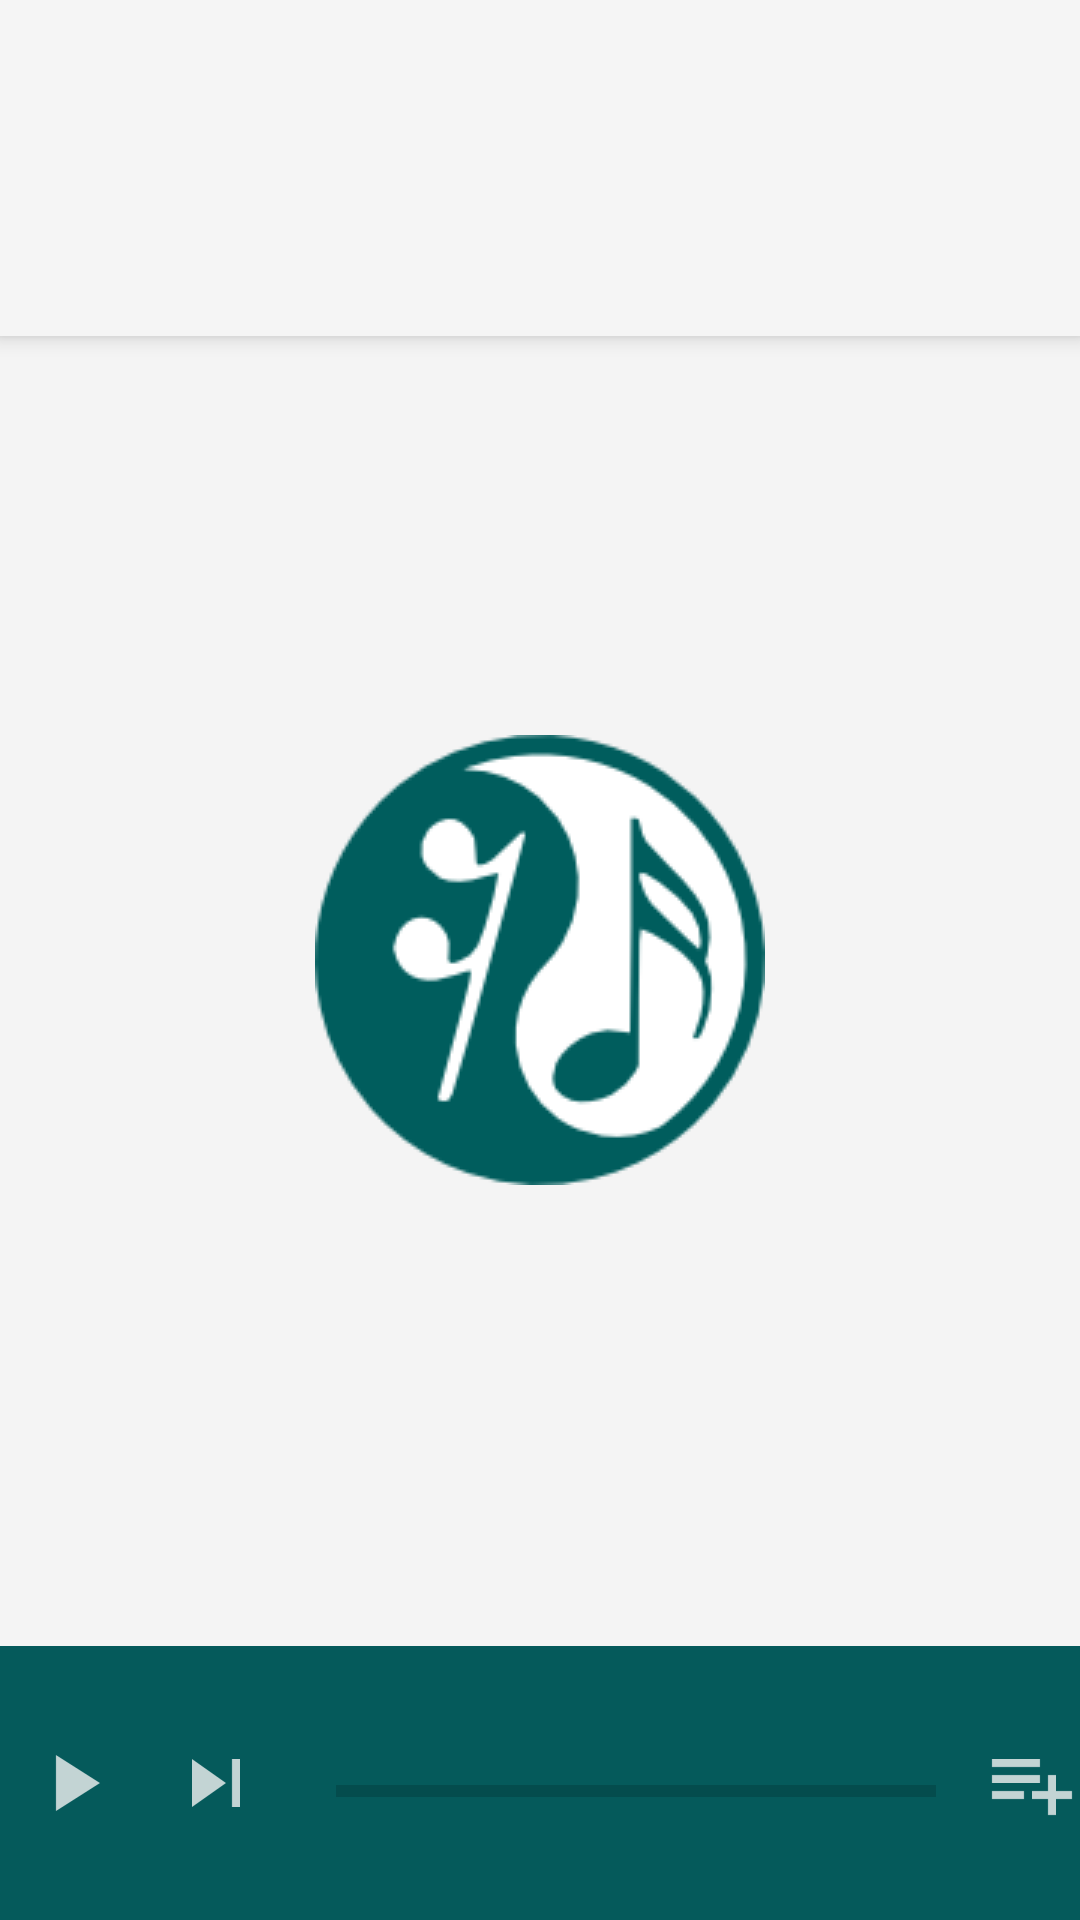

Locate icon controls on the screen. Image size 1080w x 1920h, boxes as (x1, y1, x2, y2).
Add to bucket: (992, 1759, 1072, 1815)
play next: (192, 1759, 240, 1807)
track play: (56, 1755, 100, 1811)
